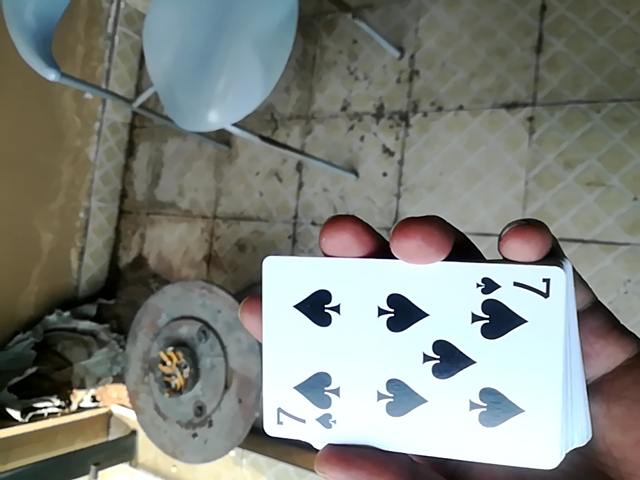ht 7: (252, 246, 587, 472)
